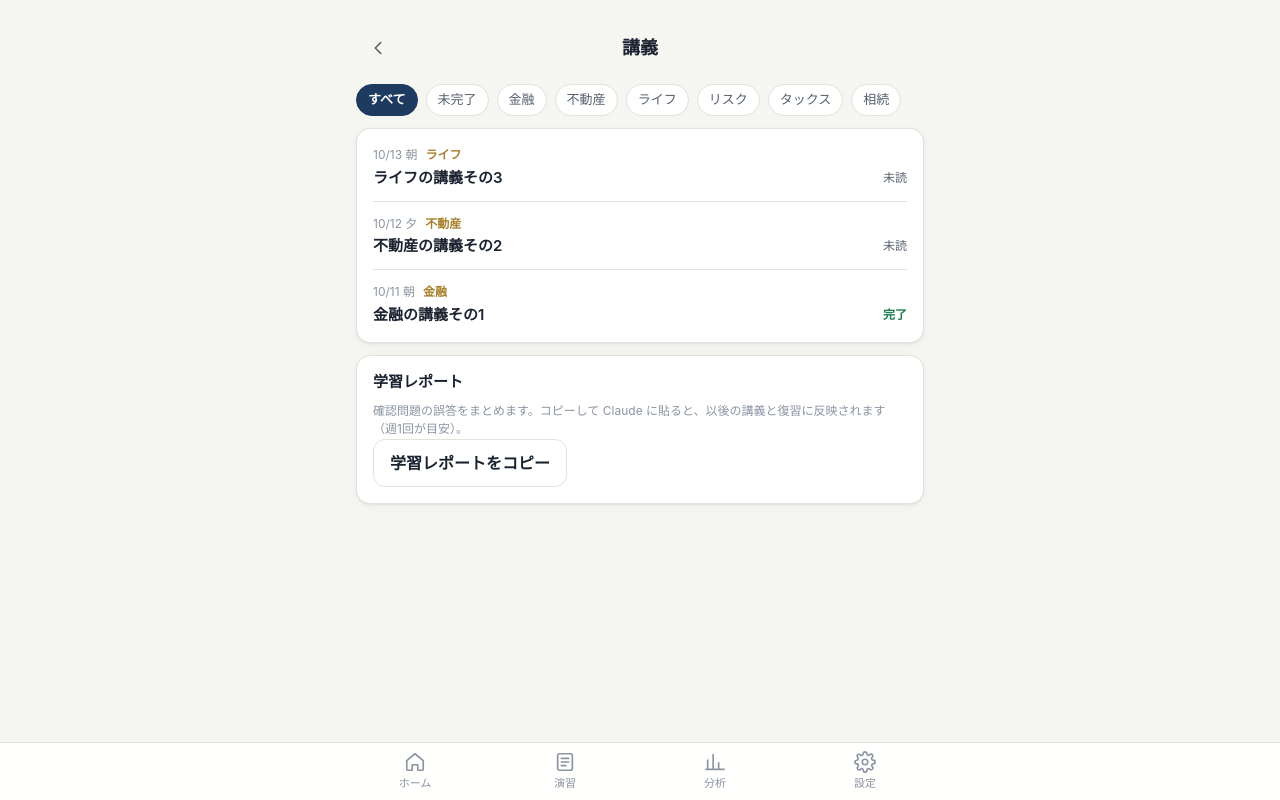
Test case: 講義の取り組みやすさ › 講義一覧: 課目で絞り込める。未完了だけにもできる
Expected: the text "金融の講義その1" is shown, top-left (373, 305), bottom-right (484, 324)
Click the button "ライフ" at (657, 100), box top-left (626, 84), bottom-right (689, 116)
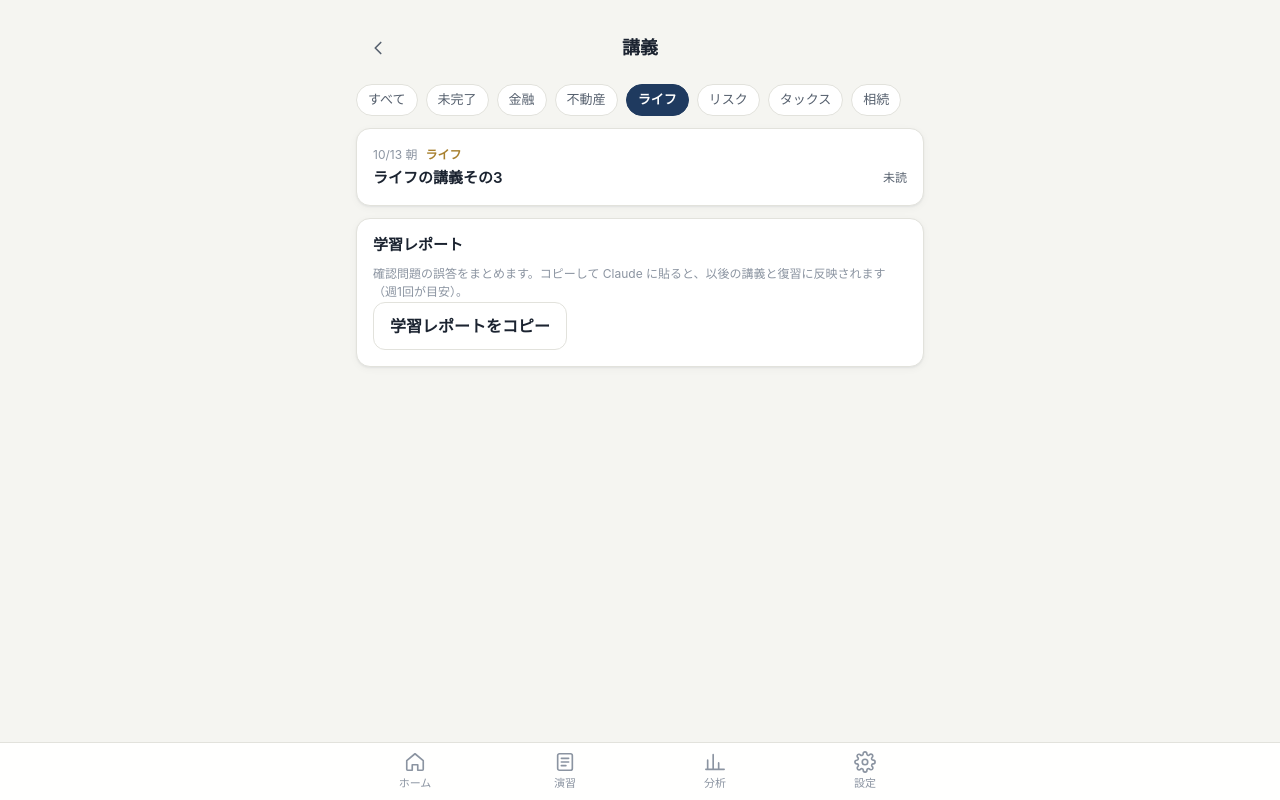
Expected: the text "ライフの講義その3" is shown, top-left (373, 168), bottom-right (502, 187)
Now the link "金融の講義その1" is gone
Click the button "ライフ" at (657, 100), box top-left (626, 84), bottom-right (689, 116)
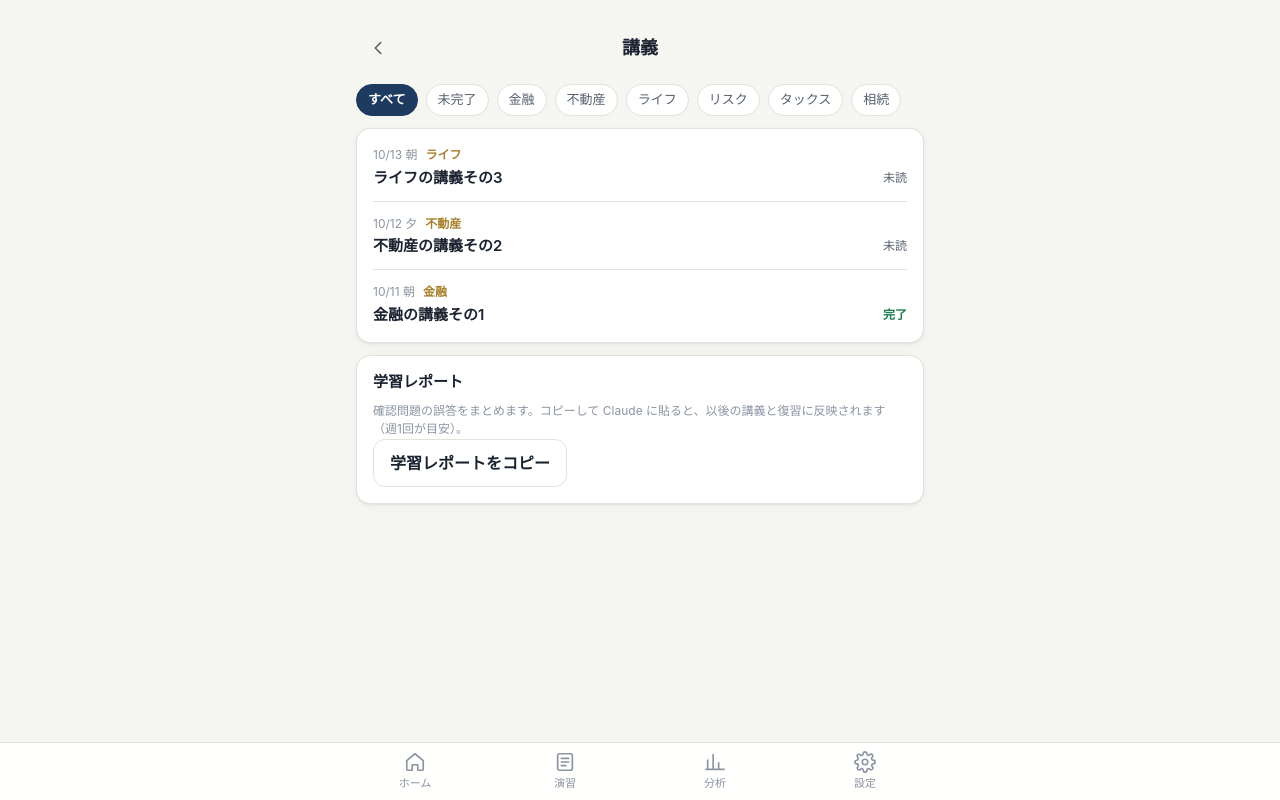
Click the button "未完了" at (457, 100), box top-left (426, 84), bottom-right (489, 116)
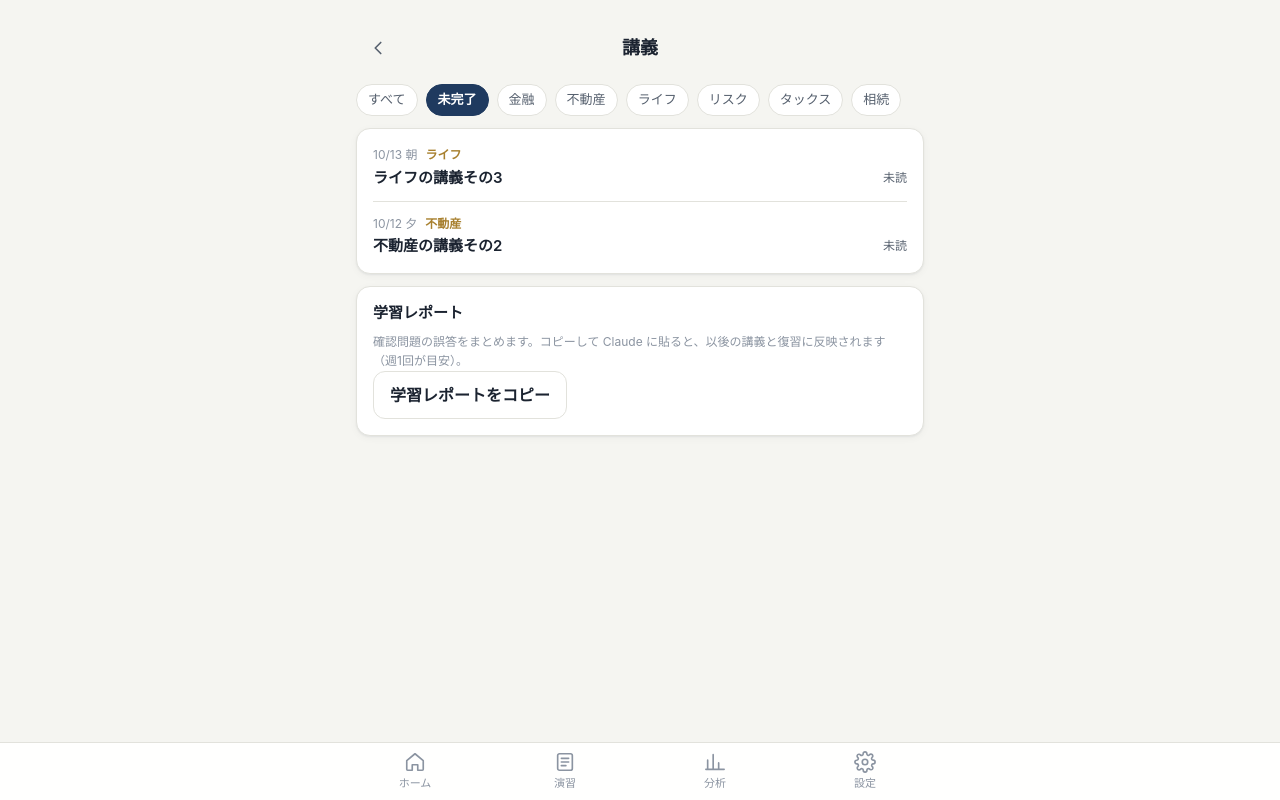
Now the text "不動産の講義その2" is shown, box top-left (373, 236), bottom-right (502, 255)
Now the link "金融の講義その1" is gone
